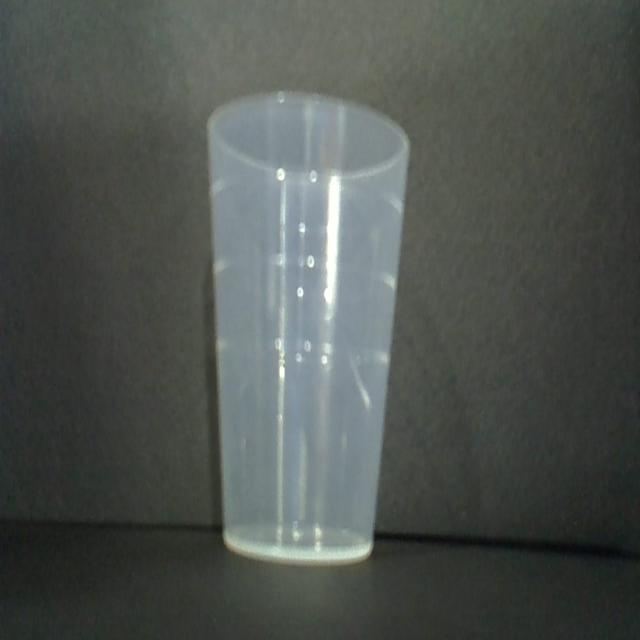cup: (205, 90, 414, 568)
